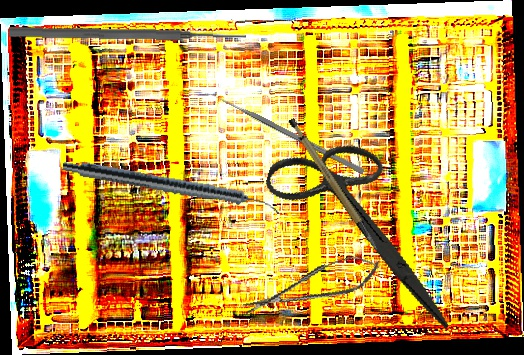Handpiece: (60, 157, 283, 217)
Iris Scissors: (239, 123, 491, 331)
Micro Scissor: (237, 249, 385, 323)
Pusher: (209, 91, 366, 175), (8, 24, 247, 45)
Scalpel Handle: (285, 108, 380, 263)
